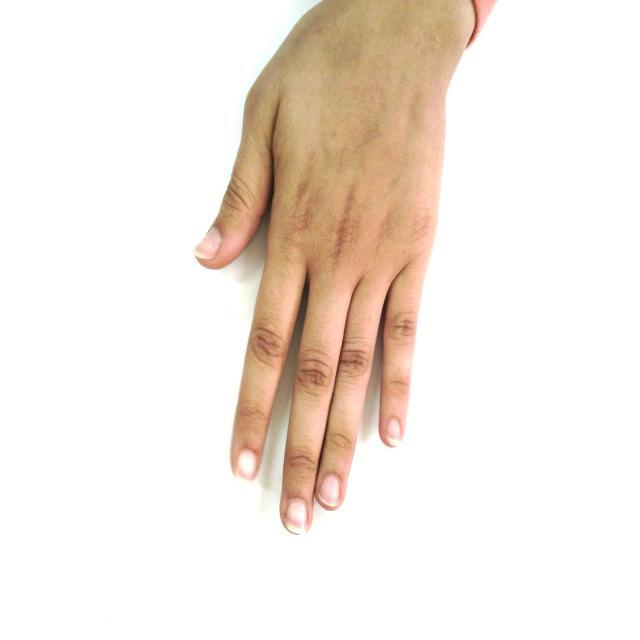Fingernail: (286, 500, 308, 534), (195, 229, 220, 257), (320, 474, 340, 507), (237, 451, 257, 479), (386, 419, 401, 442)
